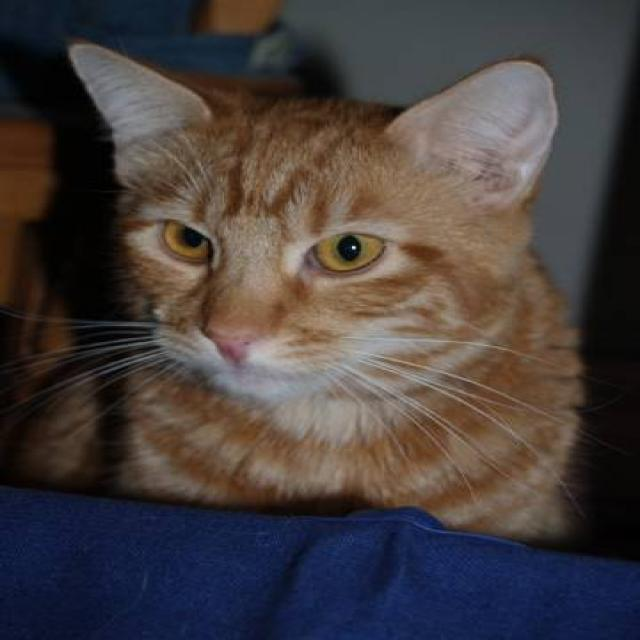cat: (0, 38, 594, 546)
